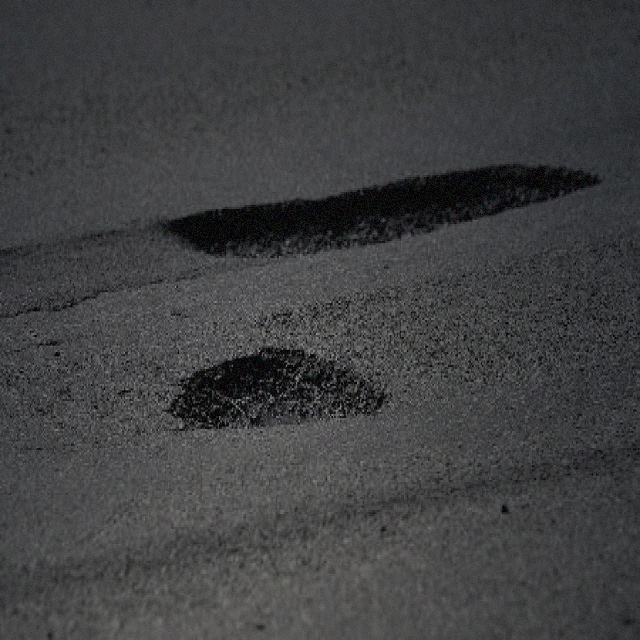pothole: (161, 160, 603, 262), (166, 346, 390, 437)
